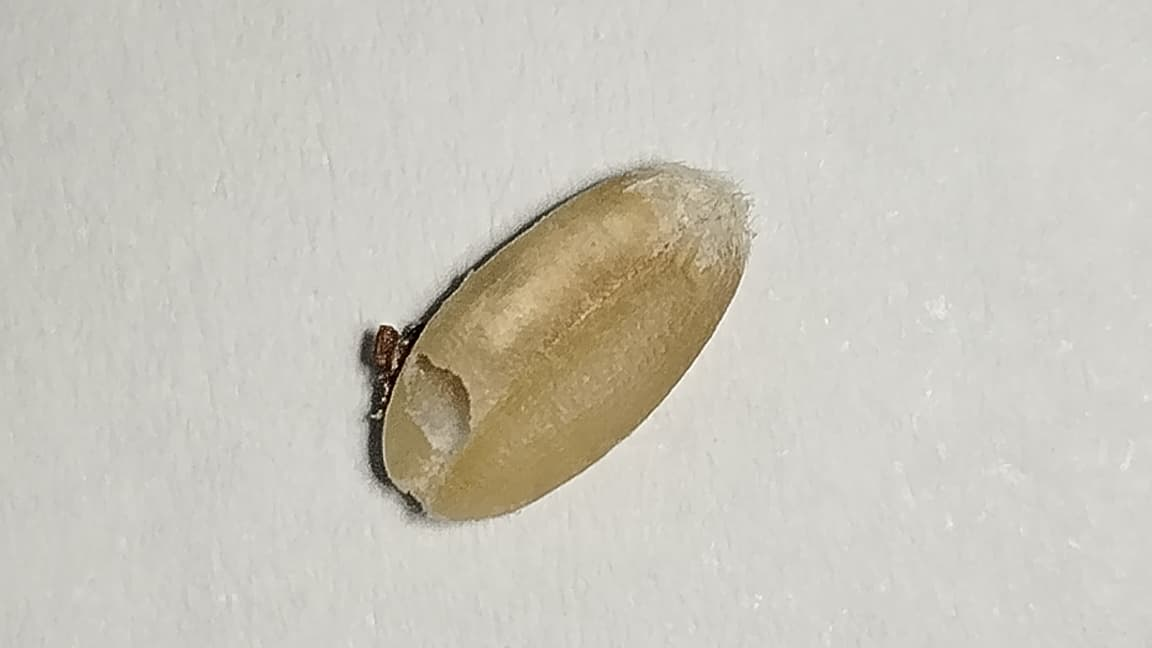damage: (367, 162, 753, 521)
insectdamage: (357, 268, 509, 493)
